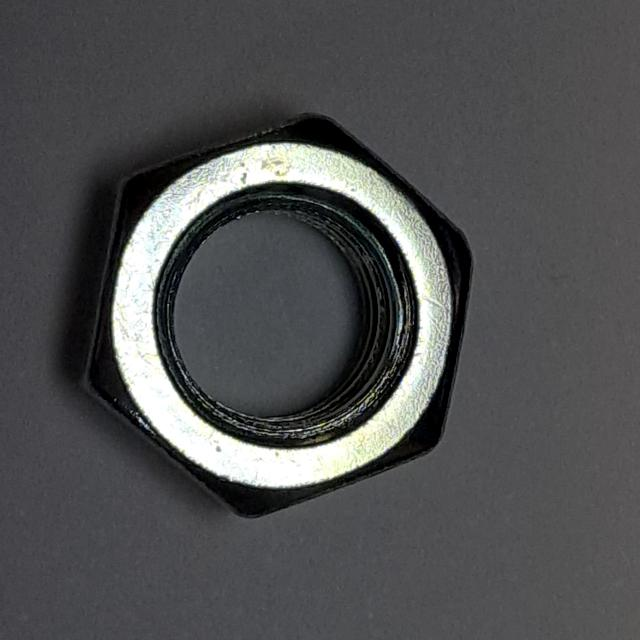Excellent: (64, 107, 483, 527)
